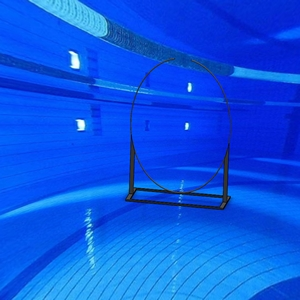circle: (124, 57, 233, 211)
